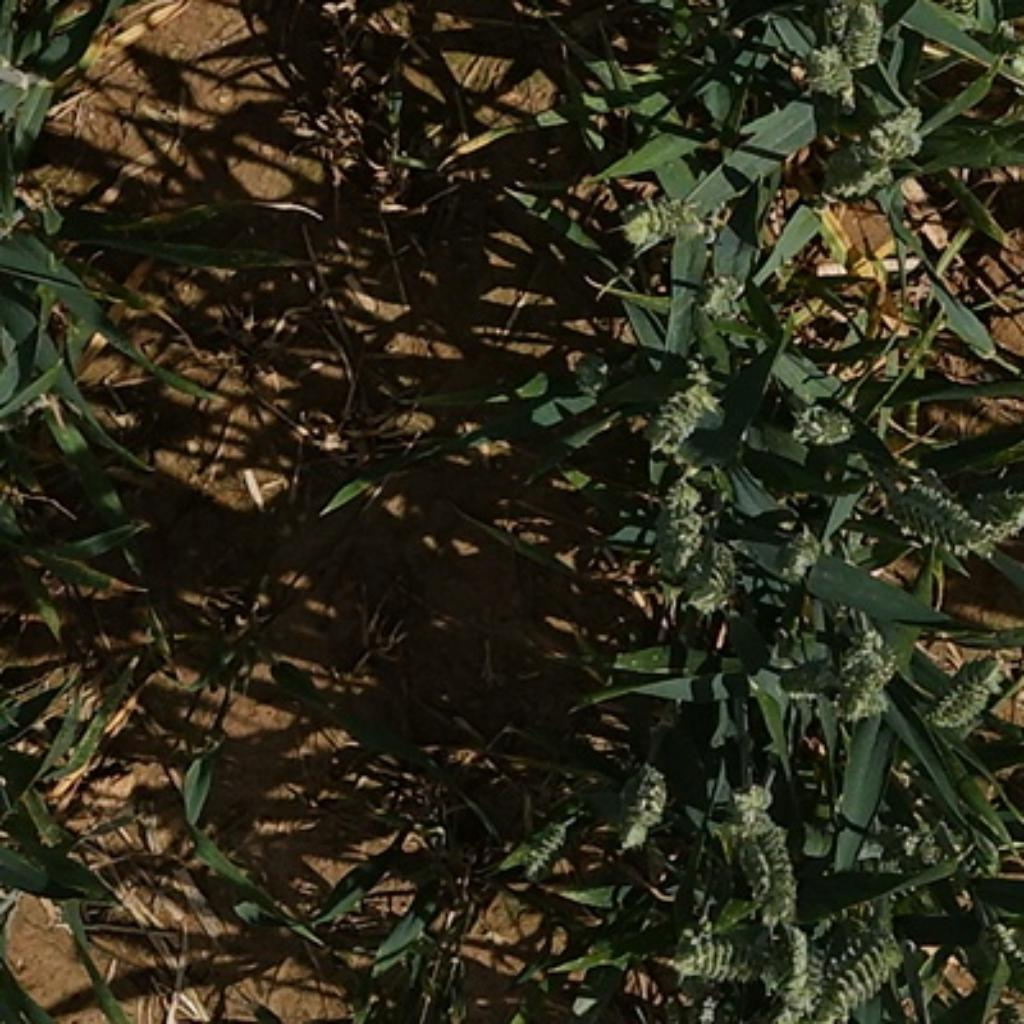0-0: (872, 473, 995, 565), (821, 622, 911, 739), (811, 924, 919, 1016), (912, 649, 1016, 743), (721, 814, 806, 929), (647, 921, 775, 993), (642, 363, 721, 450), (614, 186, 711, 256), (647, 483, 716, 581), (607, 757, 681, 848), (775, 637, 847, 719), (686, 263, 757, 345), (849, 102, 929, 174), (924, 801, 990, 885), (716, 783, 793, 849), (944, 496, 1024, 558), (821, 135, 898, 197), (509, 821, 581, 885), (686, 537, 734, 632), (824, 0, 890, 69), (755, 921, 814, 998), (788, 391, 860, 453), (970, 924, 1024, 1000), (793, 48, 862, 102), (775, 522, 819, 588), (916, 1, 980, 35)
